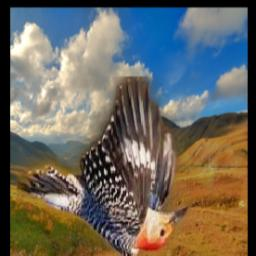Woodpecker: (16, 78, 189, 256)
